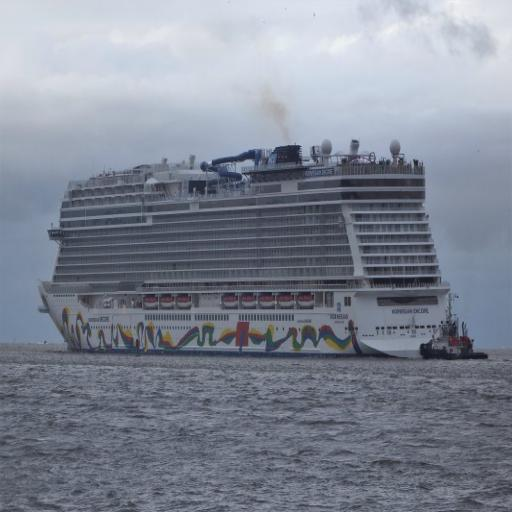cruises: (35, 136, 456, 367)
